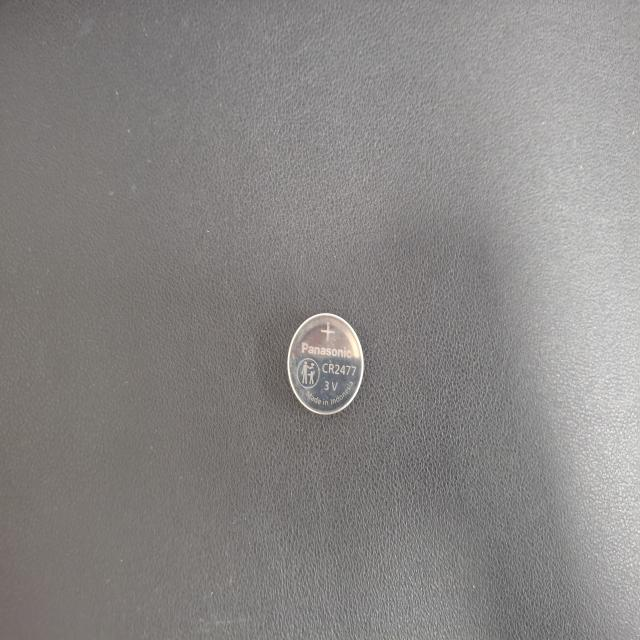COIN: (233, 367, 313, 473)
